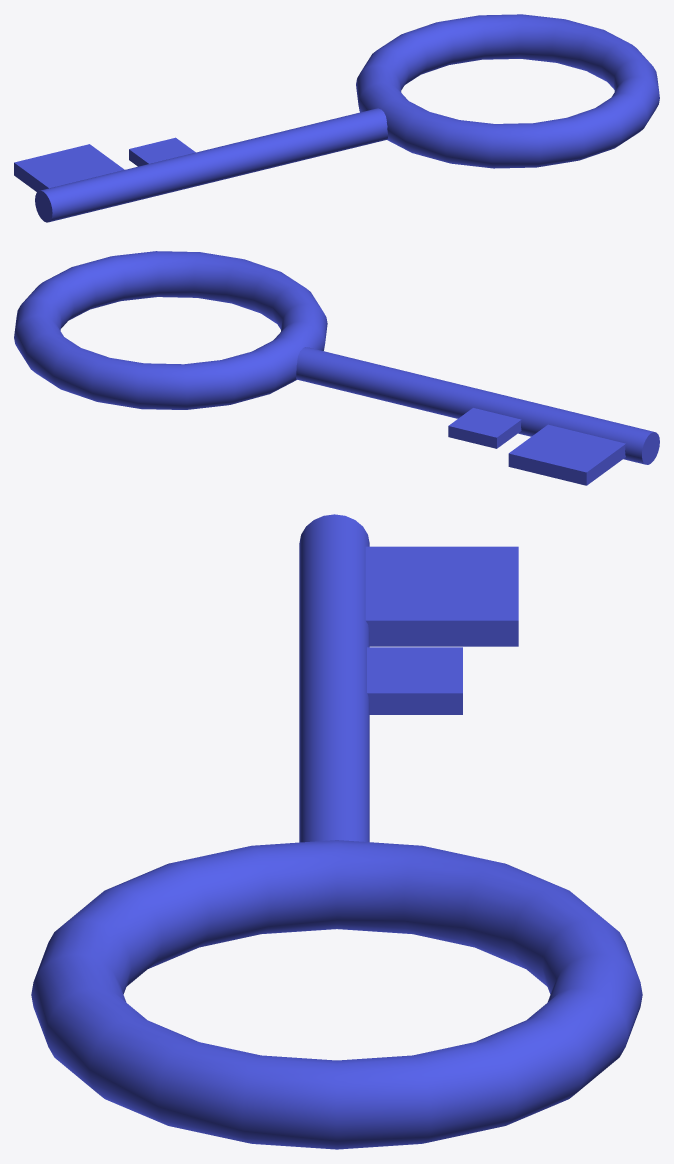
File: KeyModel.fbx
3 views of the same model, one above another, from view 1: azimuth 30°, elevation 25°; view 2: azimuth 150°, elevation 25°; view 3: azimuth 270°, elevation 25° (orthographic). The views are drawn at different scales.
Visible parts, largest first — view 1: pTorus1, pCylinder1, pCube1, pCube2; view 2: pTorus1, pCylinder1, pCube1, pCube2; view 3: pTorus1, pCylinder1, pCube1, pCube2.
Part boxes in pixels (bbox=[...]): pTorus1: bbox=[356, 14, 659, 168]; pCylinder1: bbox=[35, 108, 387, 222]; pCube1: bbox=[14, 144, 124, 191]; pCube2: bbox=[129, 137, 195, 166]; pTorus1: bbox=[14, 251, 327, 409]; pCylinder1: bbox=[296, 347, 659, 464]; pCube1: bbox=[508, 424, 625, 485]; pCube2: bbox=[448, 408, 521, 448]; pTorus1: bbox=[31, 840, 642, 1149]; pCylinder1: bbox=[299, 514, 369, 842]; pCube1: bbox=[365, 546, 518, 646]; pCube2: bbox=[367, 647, 462, 714].
Size of the model in its own units: 0.6445 by 0.0419 by 0.2857.
